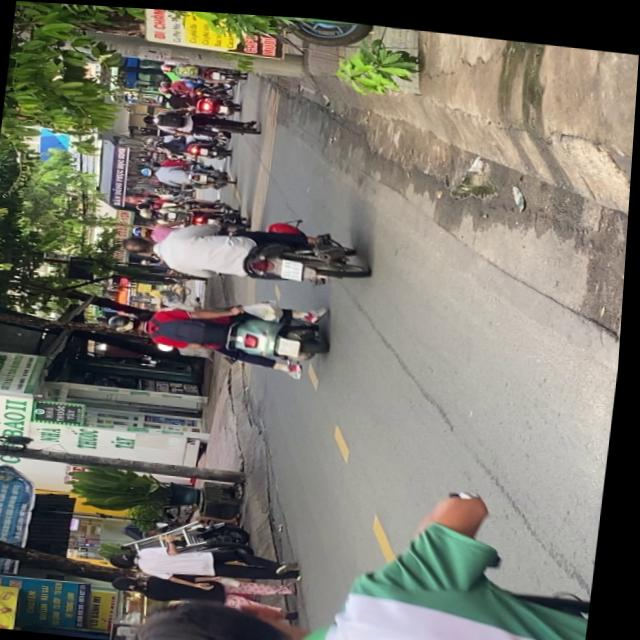helmet: (109, 310, 150, 334)
licenseplate: (122, 203, 376, 293), (106, 281, 337, 374)
motorcyclist: (124, 233, 161, 255)
nohelmet: (282, 256, 306, 277), (281, 333, 305, 353)
